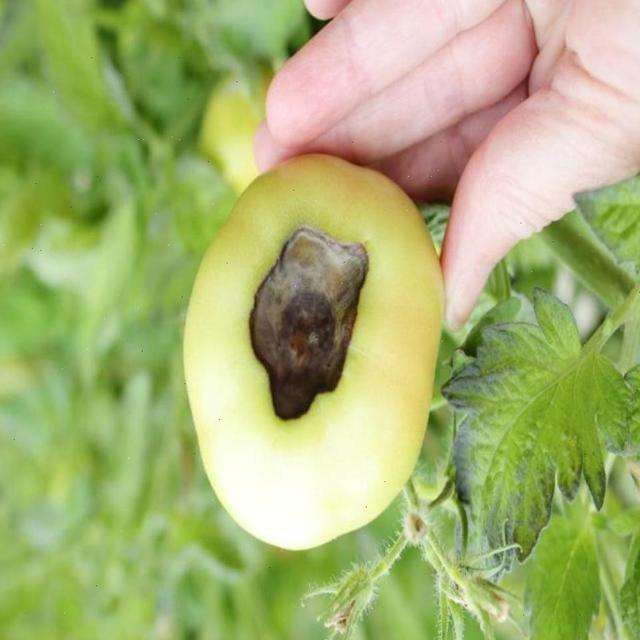Blossom End Rot Fruit: (164, 150, 250, 288)
